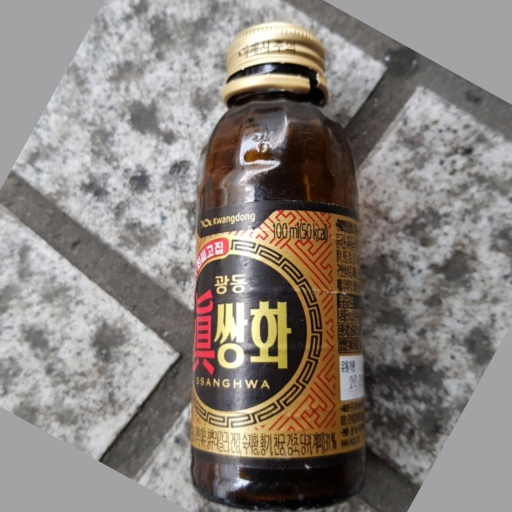Glass_3: (185, 22, 367, 508)
